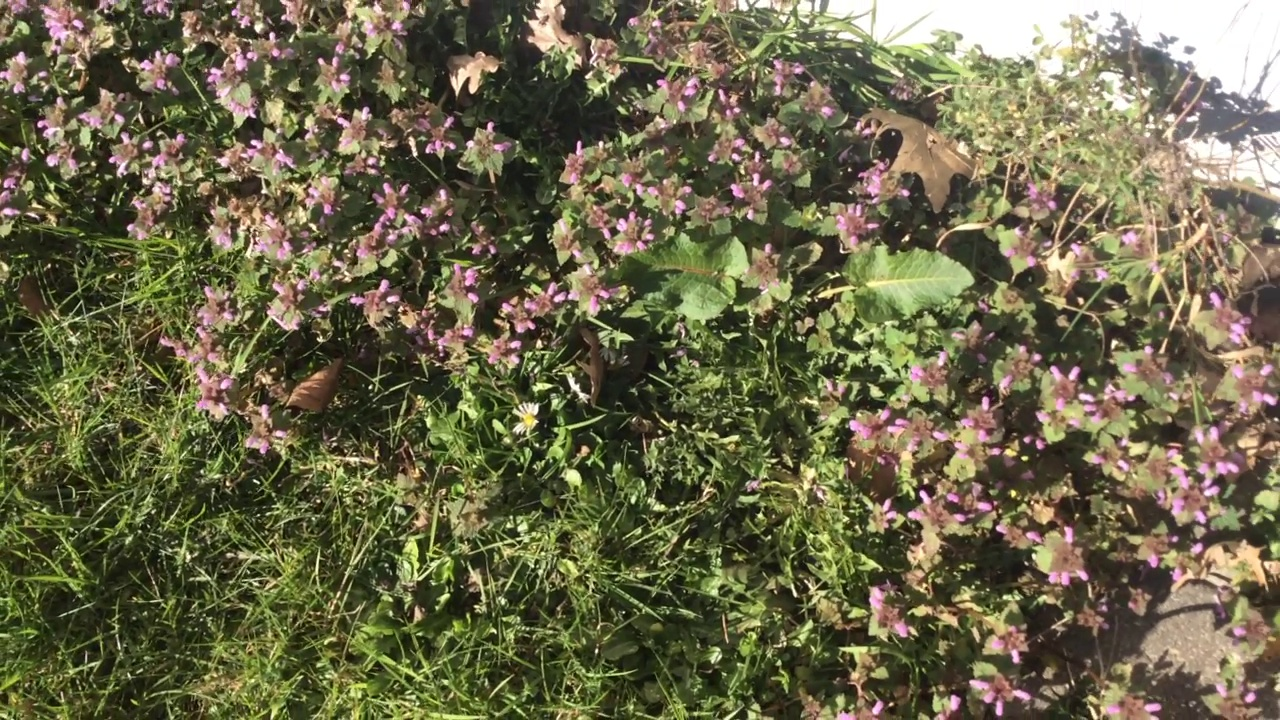rumex: (601, 229, 976, 327)
